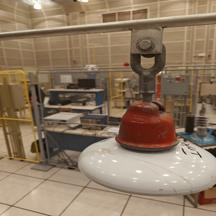insulator: (72, 97, 216, 202)
